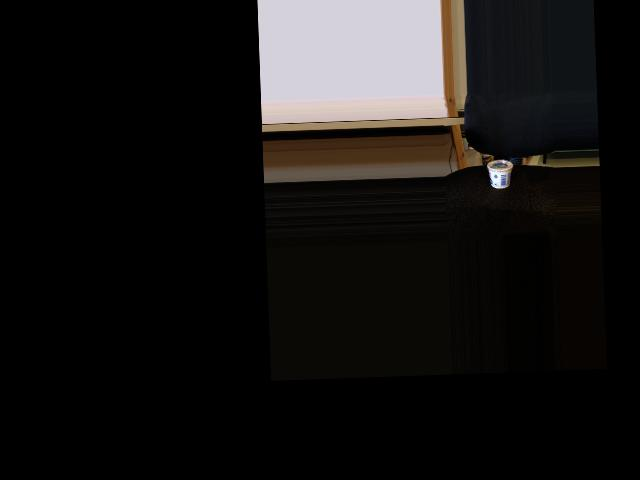cotage: (487, 158, 513, 192)
